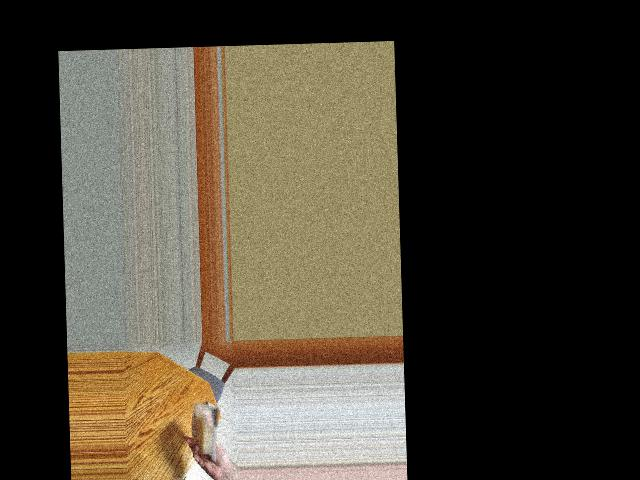cheese: (184, 403, 224, 456)
